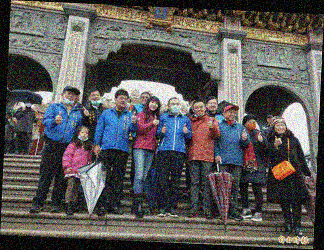mask_weared_incorrect: (62, 92, 77, 104), (193, 104, 206, 117), (90, 93, 101, 106), (78, 129, 89, 141)
with_mask: (168, 101, 181, 114), (245, 120, 257, 131), (25, 101, 32, 109)
without_mask: (273, 122, 287, 134), (115, 96, 128, 108), (225, 110, 237, 121), (206, 101, 218, 112), (148, 99, 159, 111), (140, 94, 151, 105), (266, 116, 274, 124)
